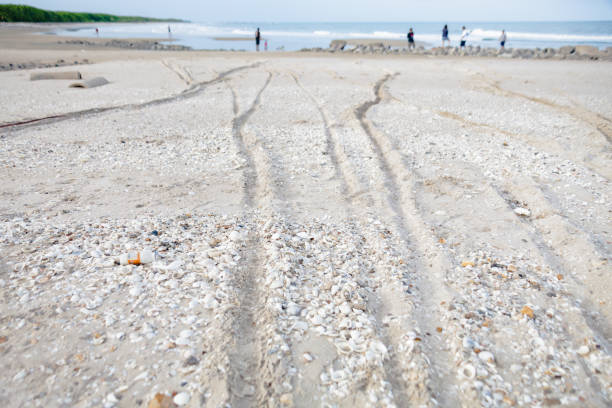vehicle_track: (354, 74, 473, 405), (452, 221, 608, 405), (262, 217, 396, 406), (226, 72, 292, 406), (491, 177, 611, 352), (489, 174, 610, 342), (439, 73, 611, 179), (0, 63, 259, 131), (359, 223, 438, 406), (523, 218, 610, 358), (436, 110, 608, 179), (437, 111, 608, 180), (291, 72, 373, 206), (368, 259, 435, 405), (232, 71, 294, 213), (488, 80, 611, 142), (354, 74, 404, 225), (265, 349, 391, 405), (290, 72, 347, 195), (227, 227, 264, 406), (228, 231, 264, 407), (537, 182, 609, 256), (232, 73, 271, 206), (437, 110, 517, 136), (538, 325, 580, 360), (161, 59, 193, 85), (224, 79, 238, 116)
